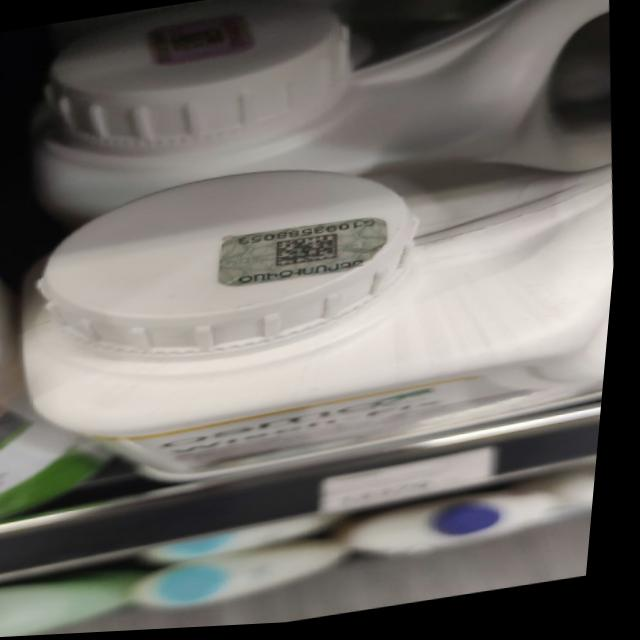datamatrix: (277, 233, 351, 273)
